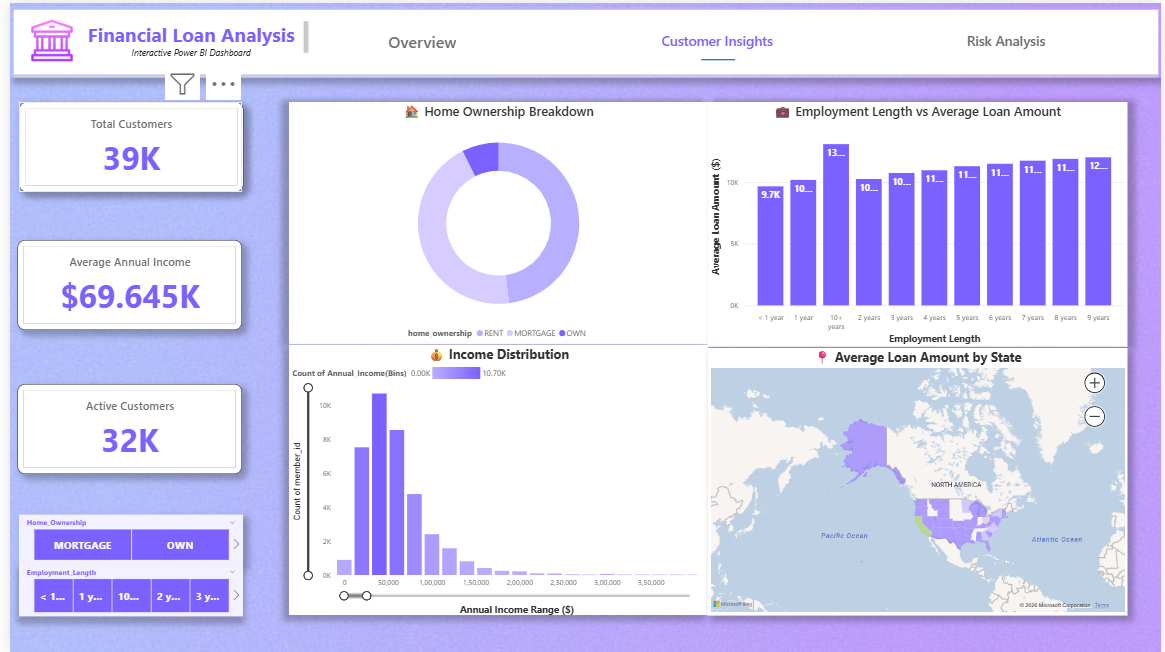

Layout of this report page (visuals, bound fields, positions):
{"tool":"powerbi","page":{"name":"Customer Insights","canvas":[1920,1082],"ordinal":1},"visuals":[{"type":"shape","box":[0,4.1,1920,120],"z":0},{"type":"slicer","fields":{"Values":["financial_loan.home_ownership"]},"box":[14,852,373.3,82.6],"z":0,"group":"g1"},{"type":"image","box":[30.2,21.4,79.8,79.8],"z":1000},{"type":"slicer","fields":{"Values":["financial_loan.emp_length"]},"box":[14,934.6,373.3,87.2],"z":1000,"group":"g1"},{"type":"textbox","box":[110,25.7,392.6,75.5],"z":2000},{"type":"actionButton","box":[621.3,43,129.4,41],"z":3000},{"type":"actionButton","box":[1078,42,202,40],"z":4000},{"type":"actionButton","box":[1586,42,150,40],"z":5000},{"type":"cardVisual","fields":{"Data":["Dax Measures.Total Customers"]},"box":[14,166,374,150],"z":7000},{"type":"cardVisual","fields":{"Data":["Dax Measures.Average Annual Income"]},"box":[12,394,374,150],"z":8000},{"type":"cardVisual","fields":{"Data":["Dax Measures.Active Customers"]},"box":[12,634,374,150],"z":9000},{"type":"donutChart","title":"🏠 Home Ownership Breakdown","fields":{"Category":["financial_loan.home_ownership"],"Y":["CountNonNull(financial_loan.member_id)"]},"box":[464,166,698,404],"z":10000},{"type":"group","id":"g1","title":"Group 1","box":[14,852,374,168],"z":11000},{"type":"columnChart","title":"💼 Employment Length vs Average Loan Amount","fields":{"Category":["financial_loan.emp_length"],"Y":["Dax Measures.Average Loan Amount"]},"box":[1162,166,700,408],"z":12000},{"type":"clusteredColumnChart","title":"💰 Income Distribution","fields":{"Category":["financial_loan.Annual_Income(Bins)"],"Y":["CountNonNull(financial_loan.member_id)"]},"box":[464,570,698,450],"z":13000},{"type":"filledMap","title":"📍 Average Loan Amount by State","fields":{"Category":["financial_loan.address_state"],"Series":["financial_loan.loan_amount"]},"box":[1162,574,700,446],"z":14000},{"type":"shape","box":[1152,88,56,14],"z":15000}]}

Visuals, with their boxes in screenshot pixels (x1, y1, x2, y2), scaled from the page's 1920x1082 canvas onto the 1165x652 screenshot:
shape: detection(0, 2, 1164, 75)
slicer - financial_loan.home_ownership: detection(8, 513, 235, 563)
image: detection(18, 13, 67, 61)
slicer - financial_loan.emp_length: detection(8, 563, 235, 616)
textbox: detection(67, 15, 305, 61)
actionButton: detection(377, 26, 456, 51)
actionButton: detection(654, 25, 777, 49)
actionButton: detection(962, 25, 1053, 49)
cardVisual - Dax Measures.Total Customers: detection(8, 100, 235, 190)
cardVisual - Dax Measures.Average Annual Income: detection(7, 237, 234, 328)
cardVisual - Dax Measures.Active Customers: detection(7, 382, 234, 472)
"🏠 Home Ownership Breakdown" donutChart: detection(282, 100, 705, 343)
"Group 1" group: detection(8, 513, 235, 615)
"💼 Employment Length vs Average Loan Amount" columnChart: detection(705, 100, 1130, 346)
"💰 Income Distribution" clusteredColumnChart: detection(282, 343, 705, 615)
"📍 Average Loan Amount by State" filledMap: detection(705, 346, 1130, 615)
shape: detection(699, 53, 733, 61)
